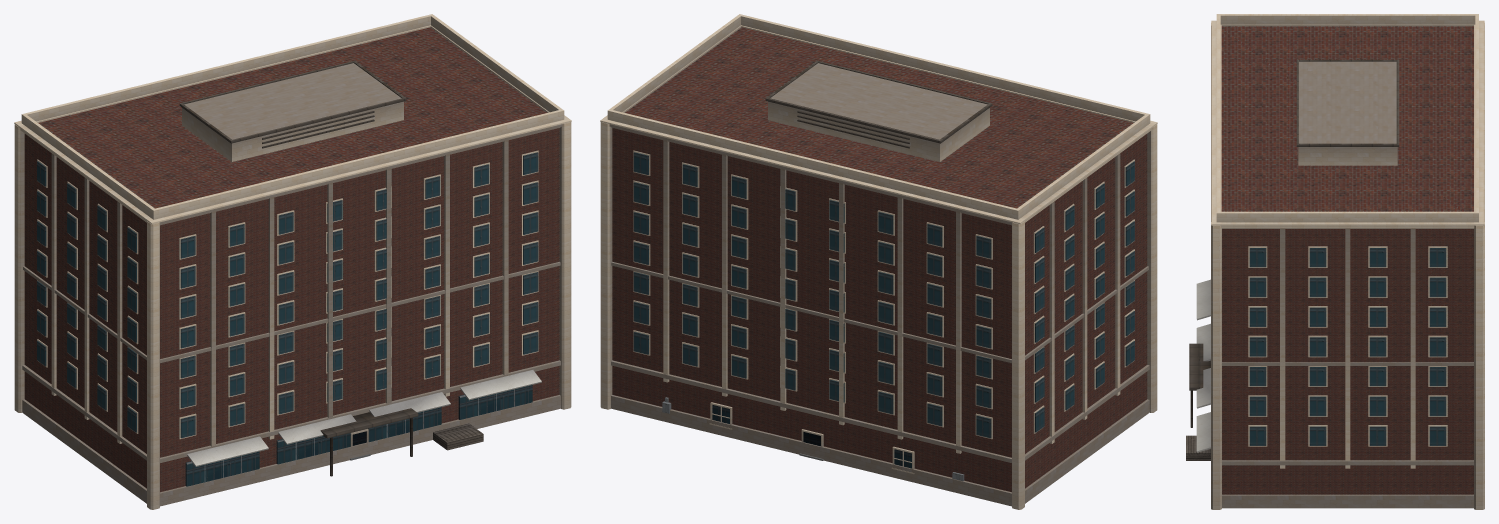
The model's file is mixed-use-block_lod0.gltf.
3 views of the same model, side by side, from view 1: azimuth 30°, elevation 25°; view 2: azimuth 150°, elevation 25°; view 3: azimuth 270°, elevation 25° (orthographic).
Parts seen in each view (by area): view 1: mixed-use-block_main, mixed-use-block__v4_stone_detail, mixed-use-block_fen_07-glass-curtain-blue_1, mixed-use-block_fen_04-limestone_2, mixed-use-block__v4_metal_detail, mixed-use-block__awning_d, mixed-use-block__awning_a, mixed-use-block__cafe_tables, mixed-use-block__awning_b, mixed-use-block__awning_c; view 2: mixed-use-block_main, mixed-use-block__v4_stone_detail, mixed-use-block_fen_07-glass-curtain-blue_1, mixed-use-block_fen_04-limestone_2, mixed-use-block__v4_metal_detail; view 3: mixed-use-block_main, mixed-use-block__v4_stone_detail, mixed-use-block_fen_07-glass-curtain-blue_1, mixed-use-block_fen_04-limestone_2, mixed-use-block__v4_metal_detail, mixed-use-block__awning_d, mixed-use-block__awning_a, mixed-use-block__awning_c, mixed-use-block__cafe_tables, mixed-use-block__awning_b.
Boxes of the visible parts, box(x1,y1,x2,y2) form: mixed-use-block_main: box(24, 27, 559, 492); mixed-use-block__v4_stone_detail: box(14, 14, 571, 509); mixed-use-block_fen_07-glass-curtain-blue_1: box(37, 152, 538, 486); mixed-use-block_fen_04-limestone_2: box(37, 150, 538, 446); mixed-use-block__v4_metal_detail: box(179, 60, 418, 476); mixed-use-block__awning_d: box(460, 370, 541, 400); mixed-use-block__awning_a: box(187, 436, 268, 466); mixed-use-block__cafe_tables: box(433, 423, 483, 450); mixed-use-block__awning_b: box(278, 414, 356, 444); mixed-use-block__awning_c: box(369, 392, 450, 416); mixed-use-block_main: box(612, 27, 1147, 492); mixed-use-block__v4_stone_detail: box(600, 14, 1157, 509); mixed-use-block_fen_07-glass-curtain-blue_1: box(633, 152, 1134, 468); mixed-use-block_fen_04-limestone_2: box(633, 150, 1134, 474); mixed-use-block__v4_metal_detail: box(765, 60, 992, 148); mixed-use-block_main: box(1221, 26, 1473, 494); mixed-use-block__v4_stone_detail: box(1211, 14, 1484, 509); mixed-use-block_fen_07-glass-curtain-blue_1: box(1249, 248, 1446, 445); mixed-use-block_fen_04-limestone_2: box(1248, 246, 1447, 446); mixed-use-block__v4_metal_detail: box(1189, 59, 1399, 427); mixed-use-block__awning_d: box(1196, 412, 1210, 452); mixed-use-block__awning_a: box(1196, 279, 1210, 320); mixed-use-block__awning_c: box(1196, 368, 1210, 408); mixed-use-block__cafe_tables: box(1186, 435, 1210, 460); mixed-use-block__awning_b: box(1196, 323, 1210, 361).
Size of the model in its own units: 46.23 by 32.32 by 28.61.
